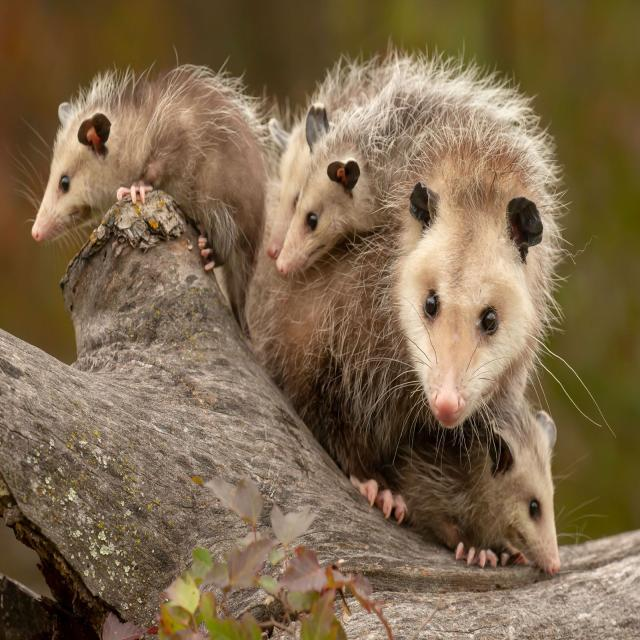Possum: (270, 67, 546, 410), (278, 72, 557, 276), (30, 60, 262, 287)
